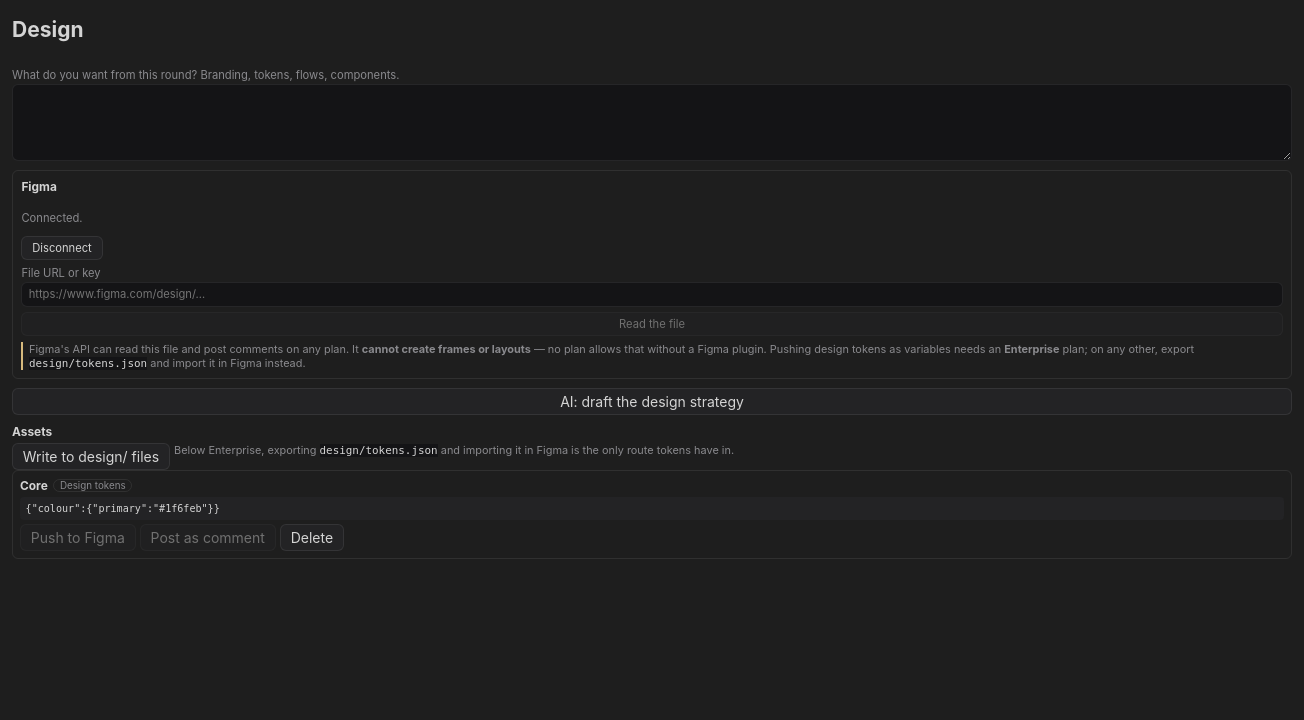
Marketing & Design › writes the design files, and says where they went
This screenshot has width=1304, height=720.
Click the button with aria-label "Write design files": (91, 456) [12,443,170,470]
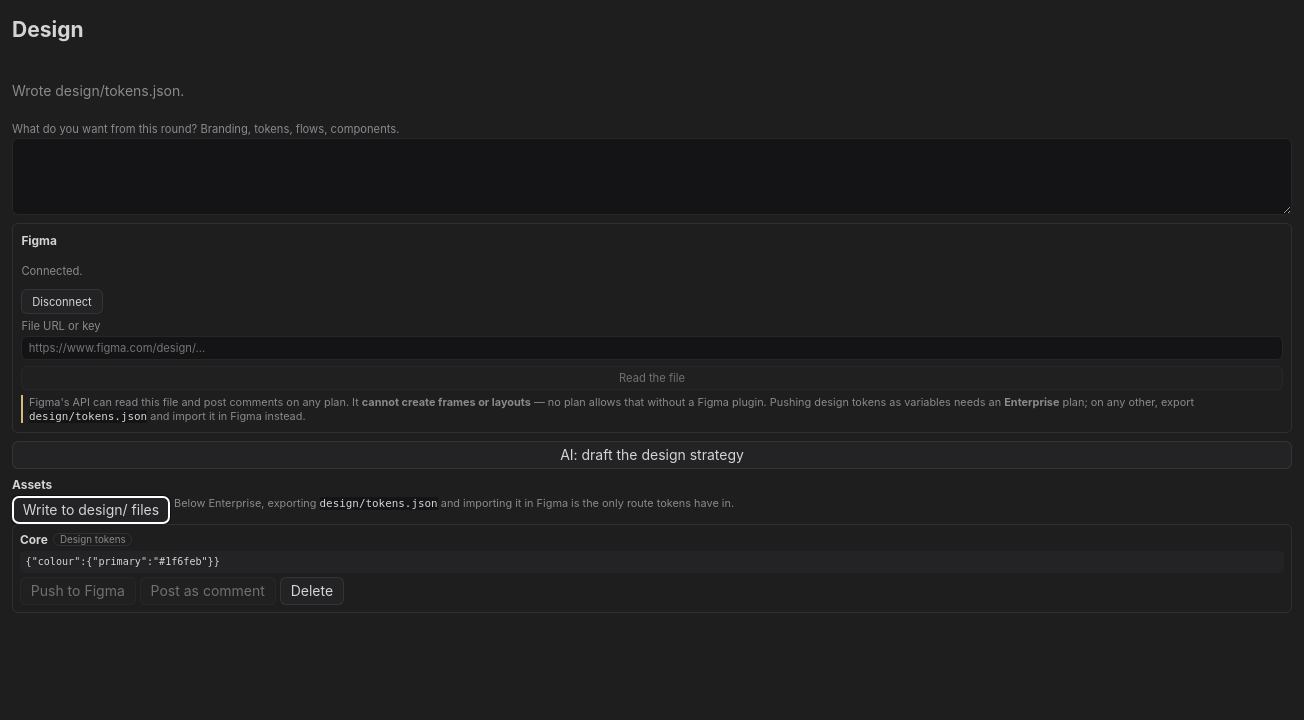
Result: the text "Wrote design/tokens.json." is shown at [12,82,184,99]
